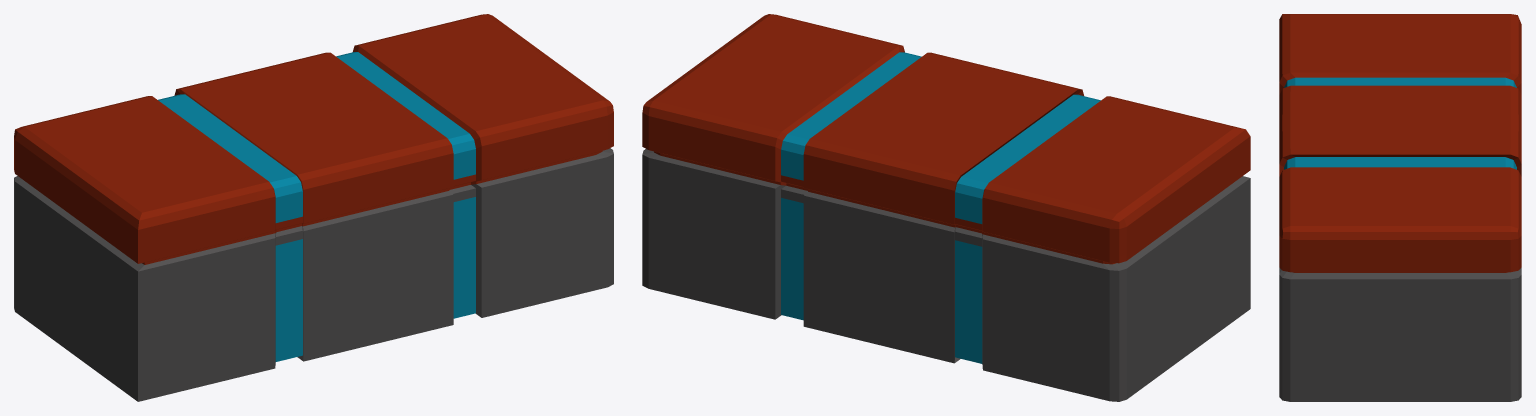
File: Chest.fbx
The picture shows the model from 3 angles, left to right: view 1: azimuth 30°, elevation 25°; view 2: azimuth 150°, elevation 25°; view 3: azimuth 270°, elevation 25°; orthographic projection. The views are drawn at different scales.
Parts seen in each view (by area): view 1: Chest; view 2: Chest; view 3: Chest.
Boxes of the visible parts, bbox=[...] form: Chest: bbox=[14, 14, 613, 401]; Chest: bbox=[642, 14, 1250, 401]; Chest: bbox=[1279, 14, 1521, 401].
Size of the model in its own units: 410 by 149 by 191.
